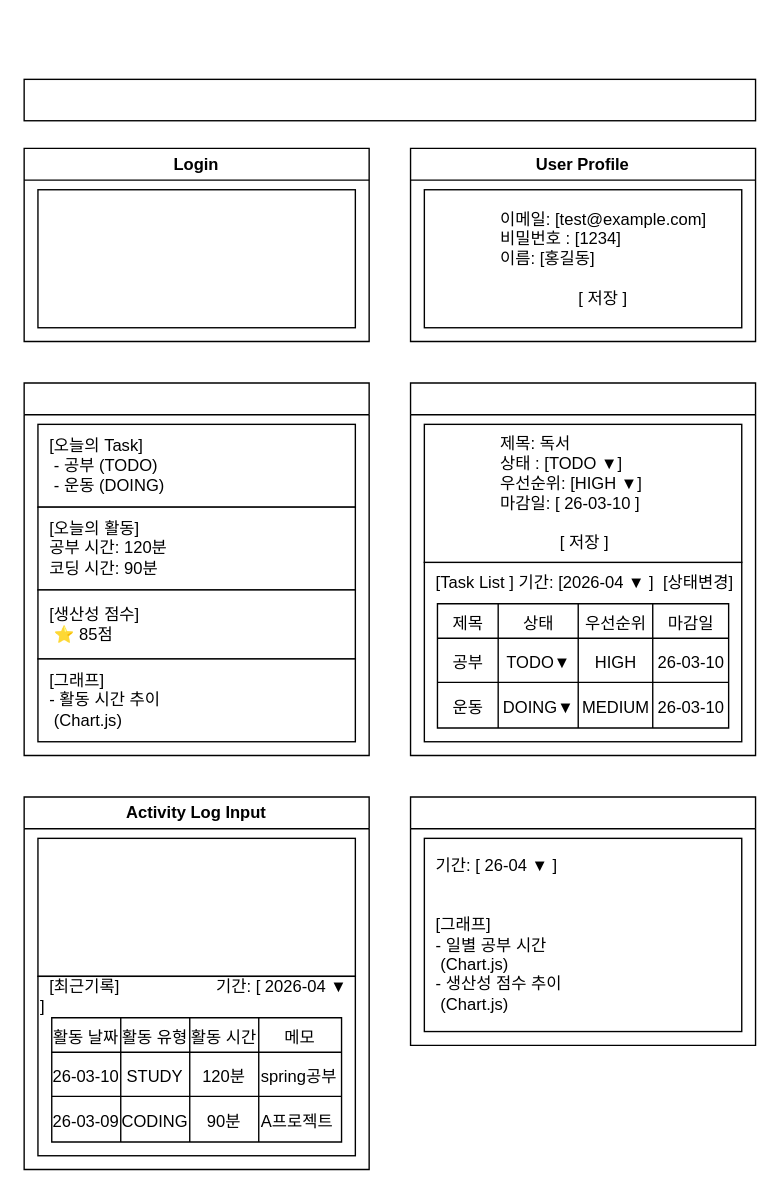
The diagram is 780 pixels wide and 1194 high, and some of its shapes have lost their labels. Here are the shapes that lost their labels. From the top down, the box of each, then its label:
(23, 78, 756, 121): (LOGO) 시스템명 [Dashboard] (active) [Task] [Activity] [Stats] 홍길동 님 | logout
(37, 188, 355, 328): 이메일 : [ test@example.com ] 비밀번호 : [ 1234] ] [ 로그인 ] [ 회원가입 ]
(23, 382, 369, 756): DevLife Dashboard
(409, 382, 756, 756): Task Manager
(37, 837, 355, 976): 유형: [STUDY ▼] 시간: [ 120 ] 분 날짜: [ 2026-04-18 ] 메모: [ Spring Boot 공부 ] [ 저장 ]
(409, 796, 756, 1045): Statistics
